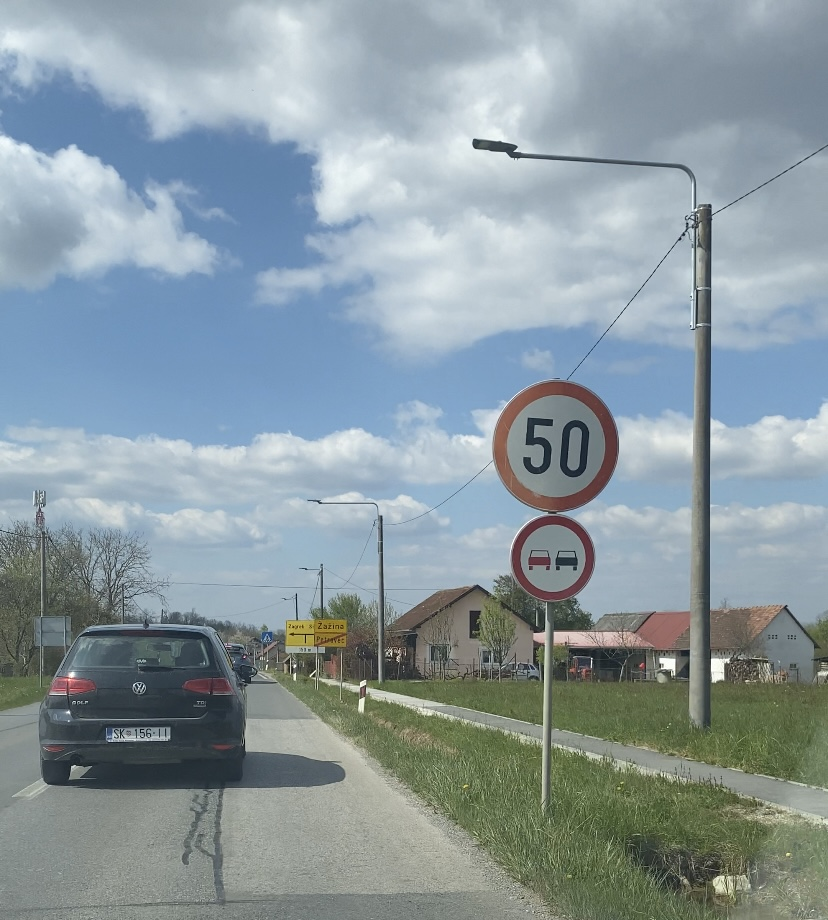Ograničenje brzine 50: (493, 380, 619, 512)
Pješački prijelaz: (262, 632, 273, 642)
Zabrana pretjecanja: (510, 515, 595, 602)
